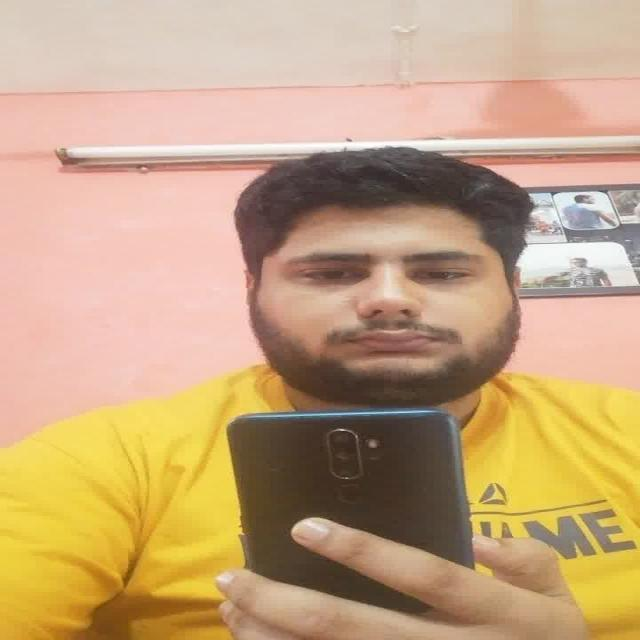phone: (226, 409, 477, 622)
